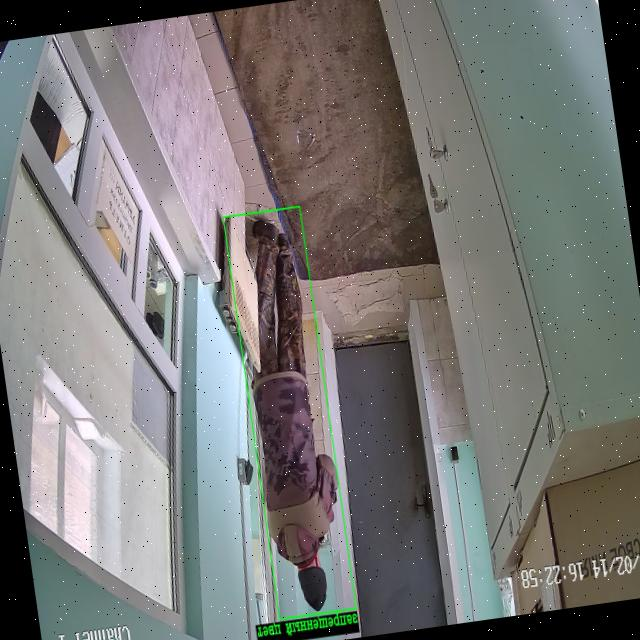Person: (253, 234, 338, 611)
